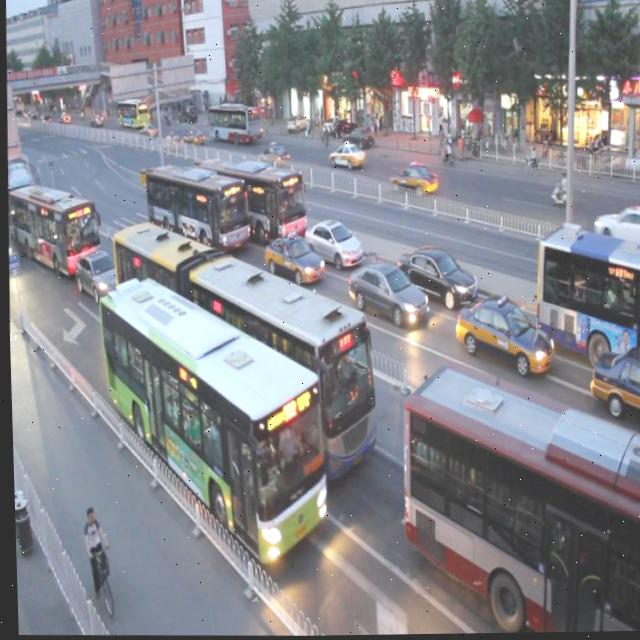car: (451, 289, 553, 381), (343, 253, 425, 329), (396, 239, 476, 307), (585, 340, 640, 415), (259, 225, 322, 287), (299, 209, 360, 271), (73, 248, 122, 301), (605, 240, 640, 314)
van: (104, 210, 380, 481), (92, 276, 329, 567), (395, 361, 640, 636), (530, 221, 640, 359), (141, 153, 249, 259), (196, 147, 307, 245), (6, 175, 99, 268)
